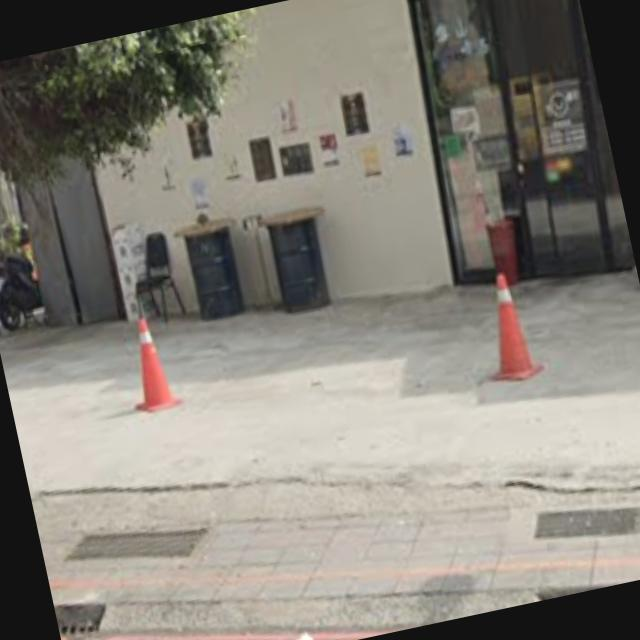cone: (472, 264, 546, 390), (110, 304, 184, 422)
